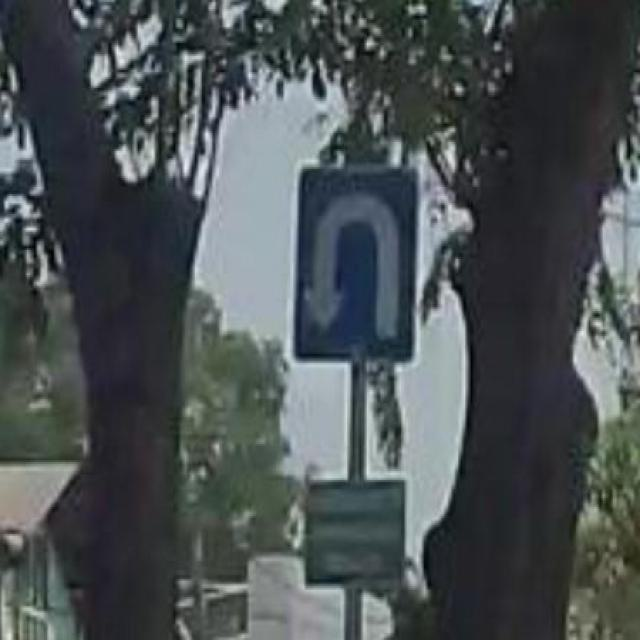U-turn: (290, 162, 416, 362)
